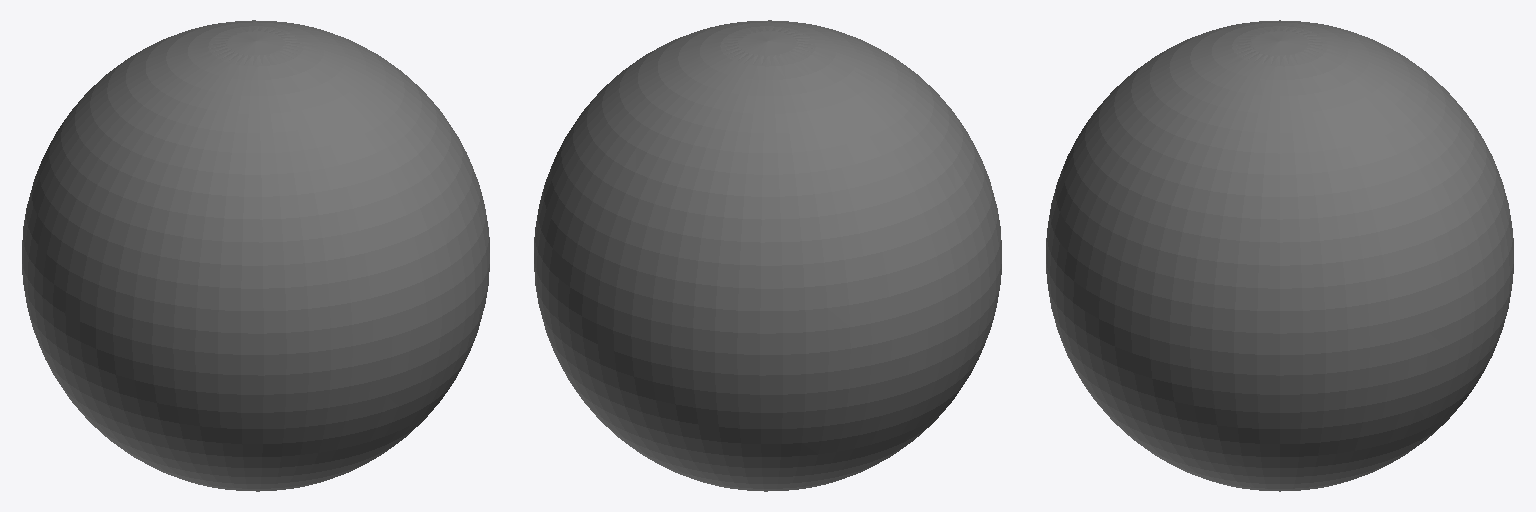
URDF robot description (9_ball):
<?xml version="1.0"?>
<robot name="9_ball">
  <link name="base">
    <visual>
      <geometry>
        <mesh filename="9_ball.obj" scale="1 1 1"/>
      </geometry>
      <material name="gray">
        <color rgba="0.5 0.5 0.5 1.0"/>
      </material>
    </visual>
    <collision>
      <geometry>
        <mesh filename="9_ball.obj" scale="1 1 1"/>
      </geometry>
    </collision>
    <inertial>
      <mass value="1.000"/>
      <inertia
          ixx="0.001040" ixy="0.000000" ixz="0.000000"
          iyy="0.001040" iyz="0.000000"
          izz="0.001029"/>
      <origin xyz="-0.156947 0.157761 0.833091" rpy="0 0 0"/>
    </inertial>
  </link>
</robot>

--- Render facts (derived) ---
Views: 3 orthographic renders of the robot side by side, from view 1: azimuth 30°, elevation 25°; view 2: azimuth 150°, elevation 25°; view 3: azimuth 270°, elevation 25°.
Model 9_ball with 1 links and 0 joints (none), rooted at base, posed every joint at zero.
Visible links, largest first — view 1: base; view 2: base; view 3: base.
Boxes of the visible links, x1=… form: base: x1=22, y1=20, x2=489, y2=491; base: x1=534, y1=20, x2=1001, y2=491; base: x1=1046, y1=20, x2=1513, y2=491.
Size in the robot's own frame: 0.0786 by 0.0786 by 0.0794 metres.
1 mesh visuals loaded from 1 distinct referenced files (1 OBJ).
